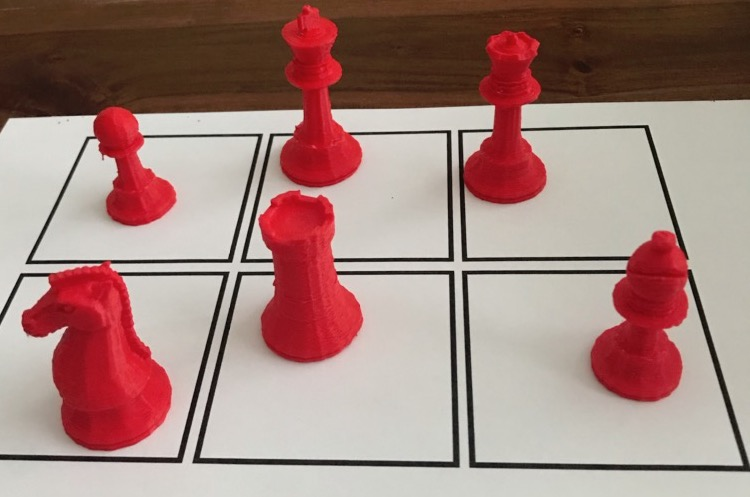Red Bishop: (581, 224, 701, 420)
Red Castle: (242, 185, 379, 372)
Red King: (264, 2, 376, 194)
Red Knight: (17, 252, 172, 456)
Red Pawn: (71, 102, 192, 232)
Red Queen: (454, 22, 557, 214)
